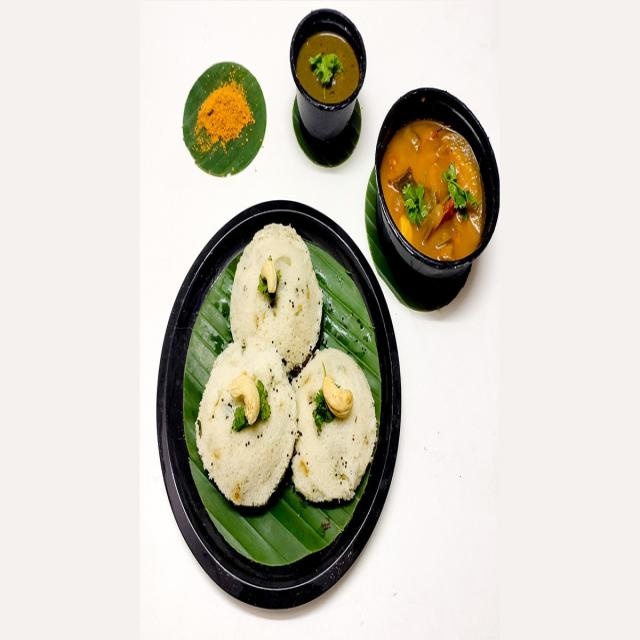IDLI: (196, 340, 297, 504), (229, 223, 322, 373), (292, 349, 378, 502)
